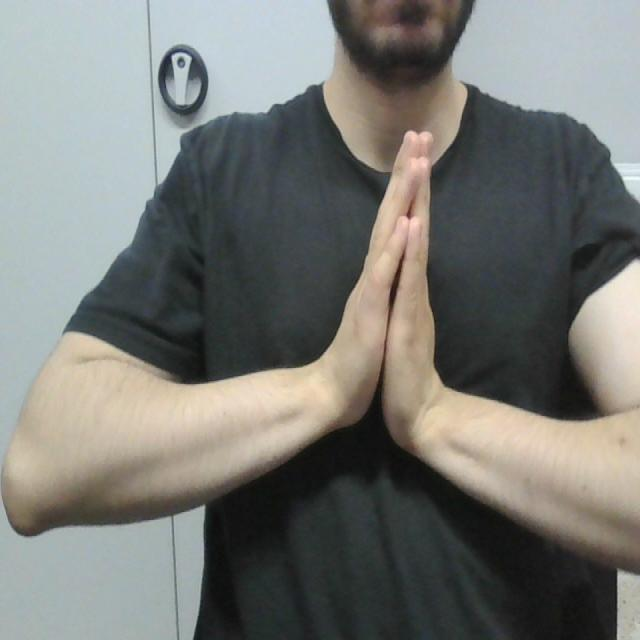Ozur-Dilemek: (322, 115, 442, 480)
